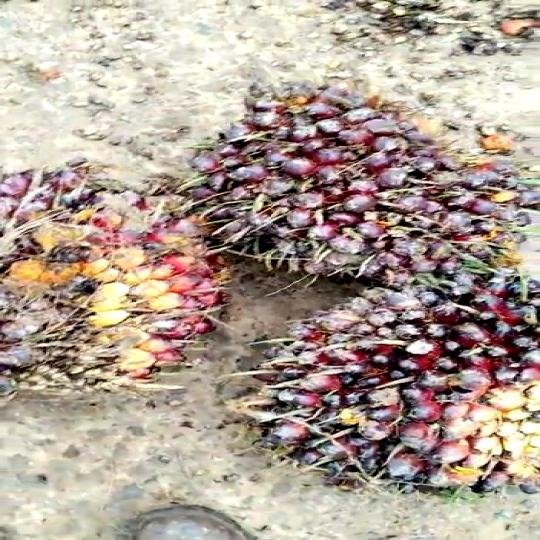kurang masak: (173, 76, 540, 298), (231, 253, 540, 506), (0, 158, 242, 386)
